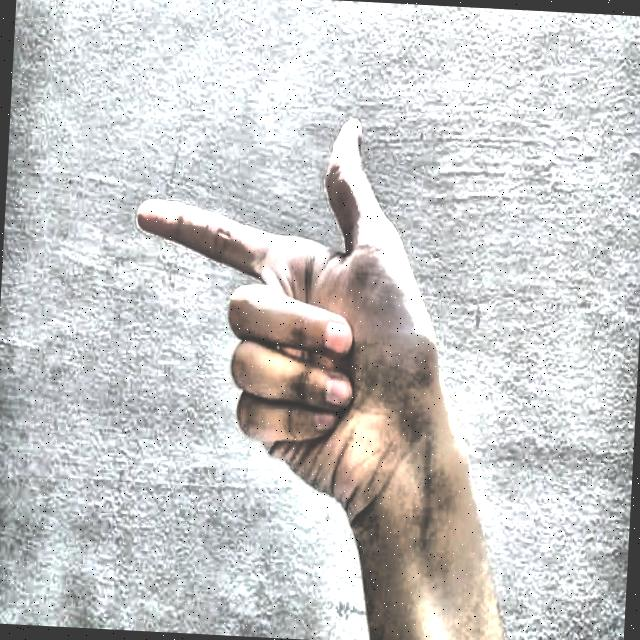Tho: (93, 71, 525, 550)
